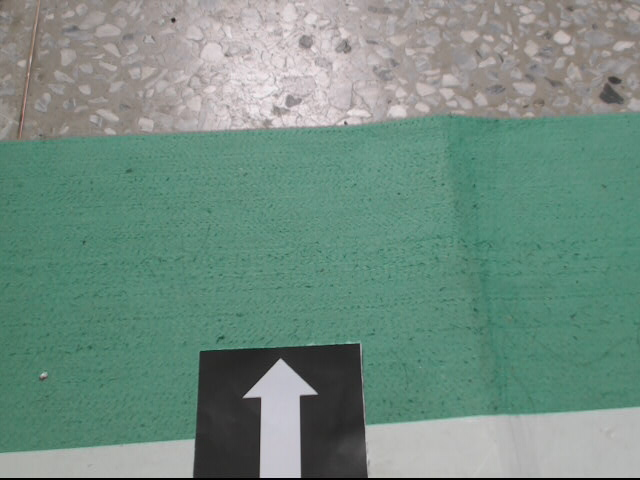straight: (198, 350, 367, 451)
